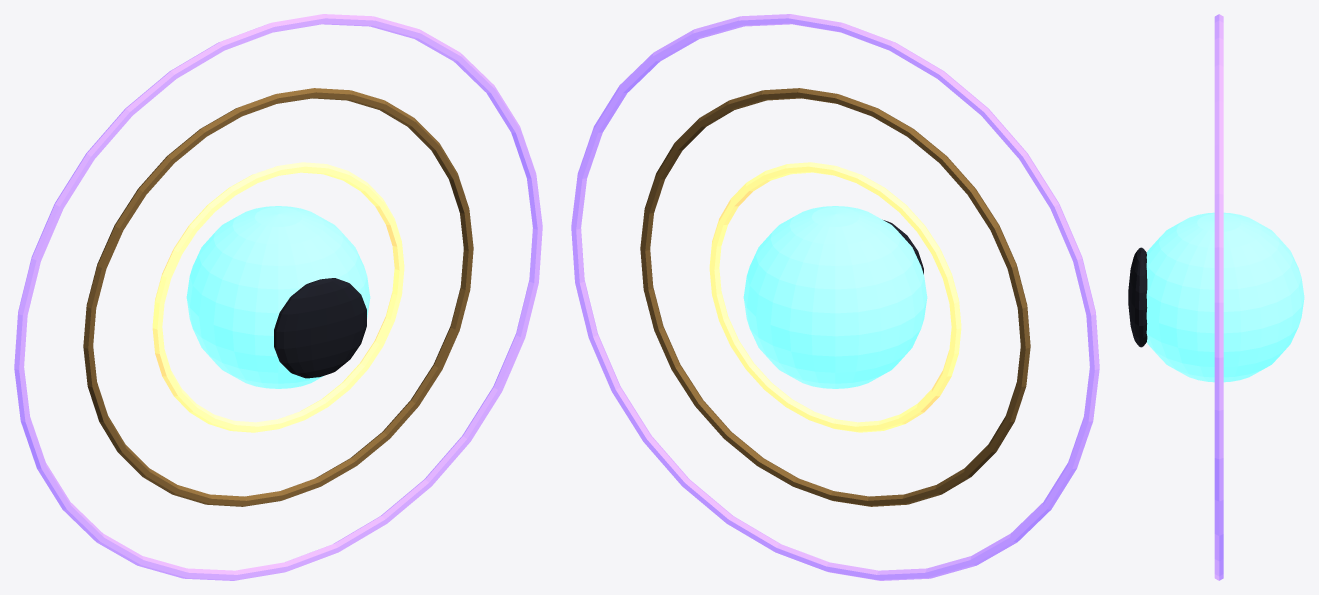
File: 10_celestial_core.glb
The picture shows the model from 3 angles, left to right: view 1: azimuth 30°, elevation 25°; view 2: azimuth 150°, elevation 25°; view 3: azimuth 270°, elevation 25°; orthographic projection. The views are drawn at different scales.
Visible parts, largest first — view 1: celestial_star_nocol, celestial_orbit_2_nocol, celestial_orbit_1_nocol, celestial_orbit_0_nocol, celestial_eclipse_nocol; view 2: celestial_star_nocol, celestial_orbit_2_nocol, celestial_orbit_1_nocol, celestial_orbit_0_nocol; view 3: celestial_star_nocol, celestial_orbit_2_nocol, celestial_eclipse_nocol.
Boxes of the visible parts, x1,y1,x2,y2 form: celestial_star_nocol: (186,206,370,388); celestial_orbit_2_nocol: (14,14,542,580); celestial_orbit_1_nocol: (83,88,473,506); celestial_orbit_0_nocol: (152,162,404,432); celestial_eclipse_nocol: (274,278,366,378); celestial_star_nocol: (743,206,927,388); celestial_orbit_2_nocol: (571,14,1099,580); celestial_orbit_1_nocol: (640,88,1030,506); celestial_orbit_0_nocol: (709,162,961,432); celestial_star_nocol: (1146,212,1304,382); celestial_orbit_2_nocol: (1214,14,1223,580); celestial_eclipse_nocol: (1128,247,1147,347).
Size of the model in its own units: 30.55 by 30.55 by 9.49.
